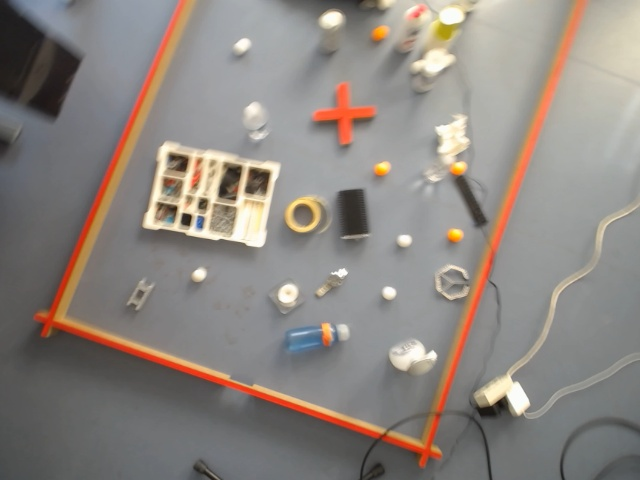orange: (369, 25, 391, 43), (372, 161, 392, 178), (449, 161, 468, 176), (445, 228, 464, 243)
white: (559, 414, 640, 480), (276, 281, 301, 313), (316, 9, 348, 33), (437, 5, 468, 26), (231, 38, 254, 59), (379, 284, 399, 303), (394, 233, 414, 251), (190, 266, 208, 285), (336, 323, 350, 342)
